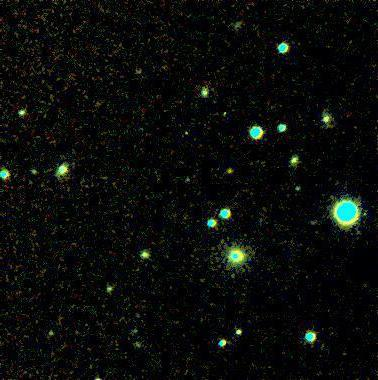star: (216, 157, 246, 187)
